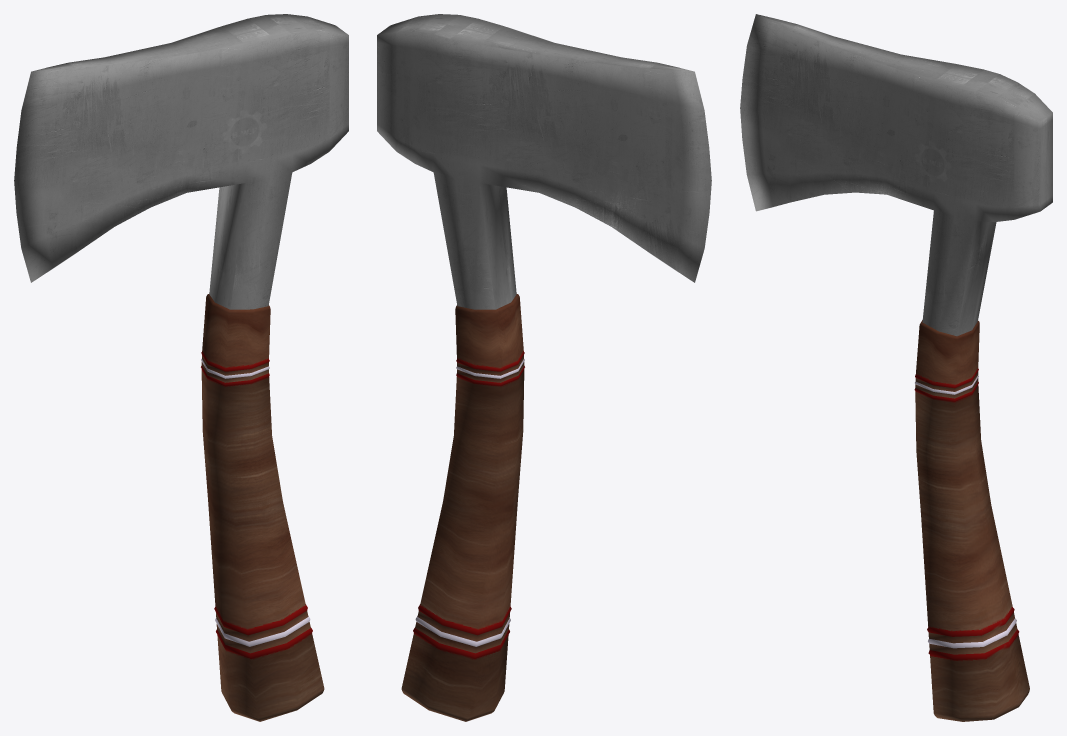
Rendered from machado.fbx.
3 renders of one model, left to right at view 1: azimuth 30°, elevation 25°; view 2: azimuth 150°, elevation 25°; view 3: azimuth 330°, elevation 25°, orthographic. The views are drawn at different scales.
Visible parts, largest first — view 1: lamina; view 2: lamina; view 3: lamina.
Part boxes in pixels (x1,y1,x2,y2): lamina: [14, 14, 348, 721]; lamina: [377, 14, 711, 721]; lamina: [740, 14, 1052, 721].
Size of the model in its own units: 36.39 by 73.26 by 9.09.
